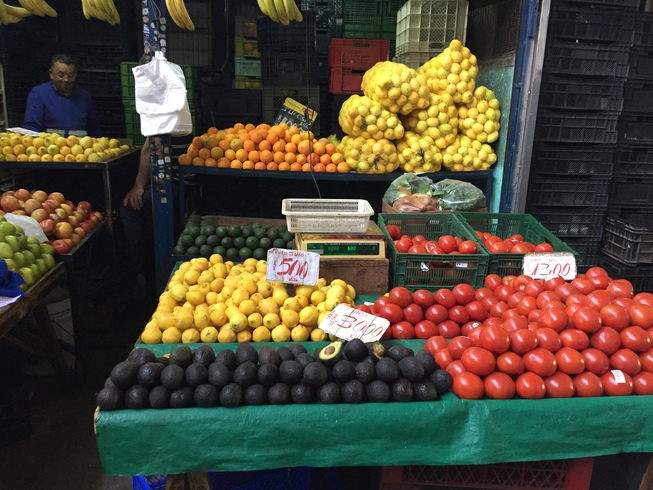precio: (326, 306, 392, 347), (268, 244, 322, 292), (524, 252, 579, 286)
